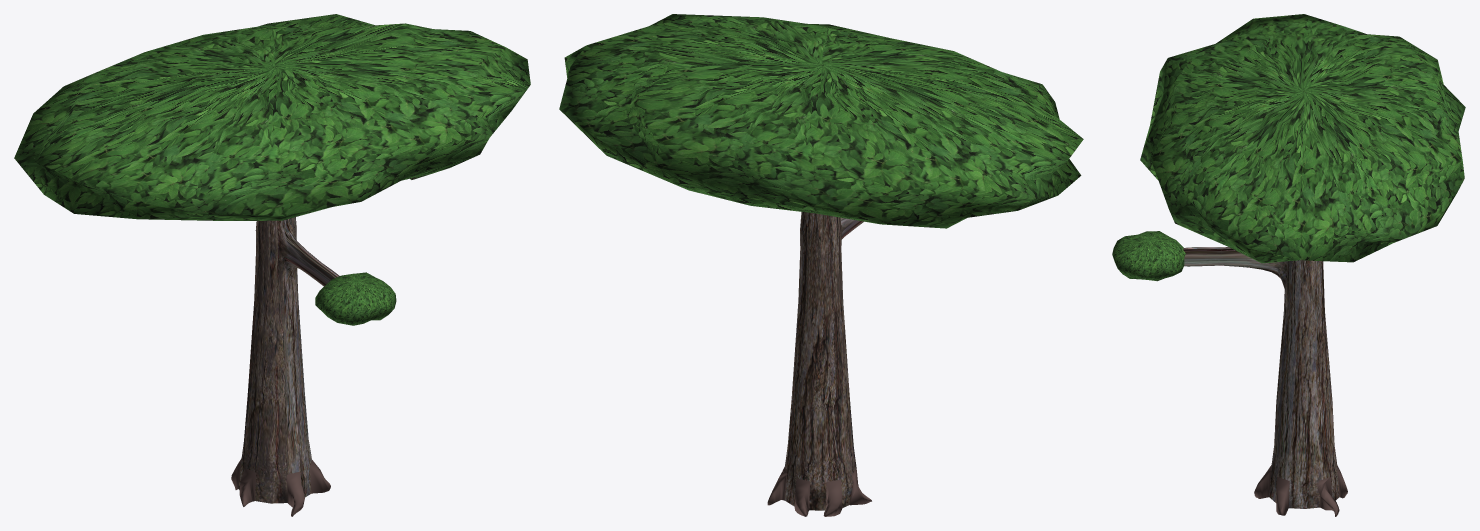
The model's file is TreeWithSecret.FBX.
The picture shows the model from 3 angles, left to right: view 1: azimuth 30°, elevation 25°; view 2: azimuth 150°, elevation 25°; view 3: azimuth 270°, elevation 25°; orthographic projection. The views are drawn at different scales.
Visible parts, largest first — view 1: Baum; view 2: Baum; view 3: Baum.
Boxes of the visible parts, <box> form: Baum: <box>14,14,530,516</box>; Baum: <box>559,14,1083,516</box>; Baum: <box>1112,14,1465,516</box>.
Size of the model in its own units: 68.08 by 56.89 by 44.35.
